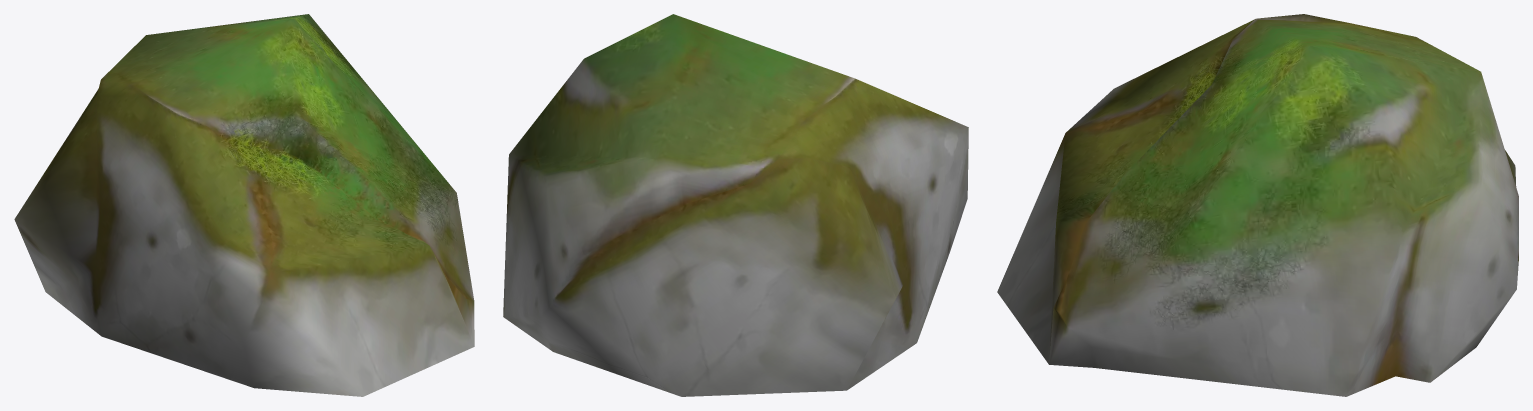
Rendered from rock_1.glb.
3 renders of one model, left to right at view 1: azimuth 30°, elevation 25°; view 2: azimuth 150°, elevation 25°; view 3: azimuth 270°, elevation 25°, orthographic. The views are drawn at different scales.
Parts seen in each view (by area): view 1: OreRock; view 2: OreRock; view 3: OreRock.
Part boxes in pixels (left/top/right/bottom): OreRock: left=14, top=14, right=474, bottom=396; OreRock: left=503, top=14, right=968, bottom=396; OreRock: left=997, top=14, right=1518, bottom=396.
Bounding box in the file's own units: 8.06 × 5.45 × 9.1.
1 material, 1 textured.
